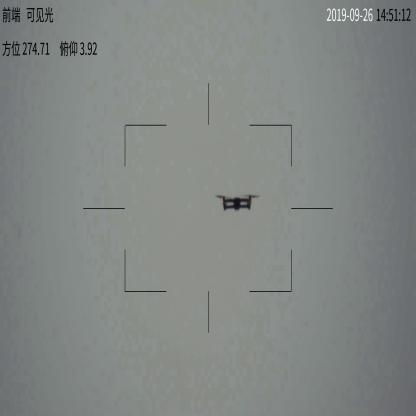uav: (213, 191, 258, 213)
